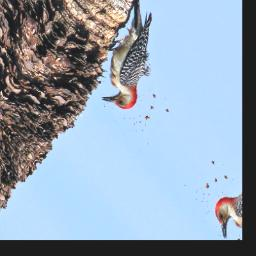Woodpecker: (72, 0, 187, 123)
